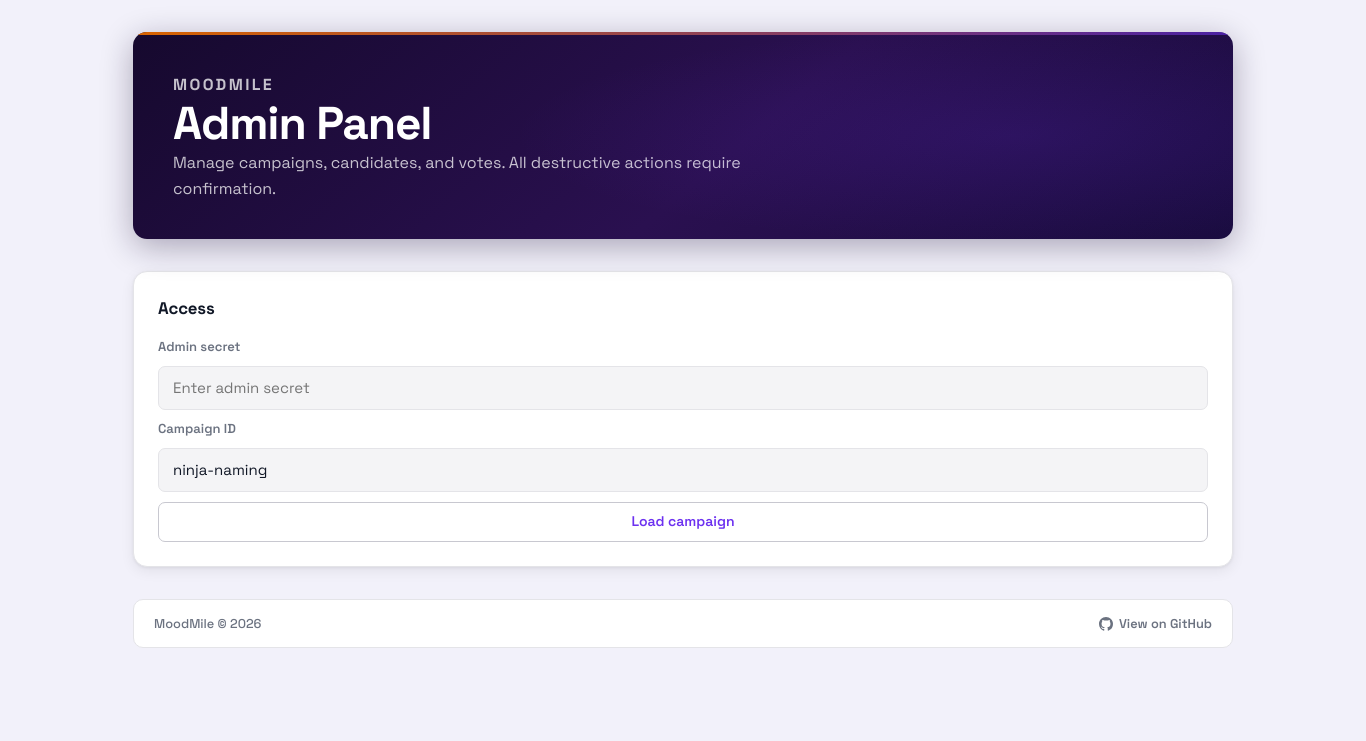
Test case: AdminPage document title › includes the loaded campaign title after authentication
Type "secret" into the password field labelled "Admin secret" at (683, 388), box [158,366,1208,410]
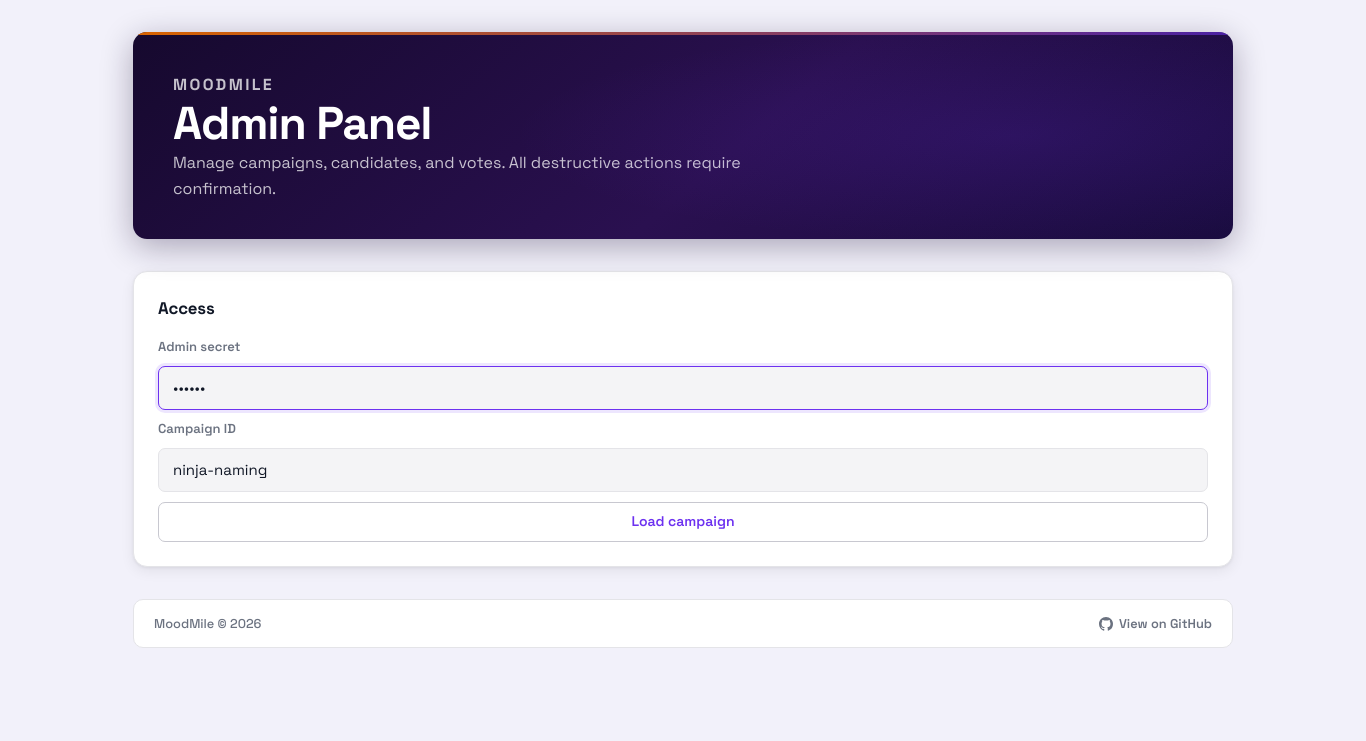
Click the button "Load campaign" at (683, 522), box [158,502,1208,542]
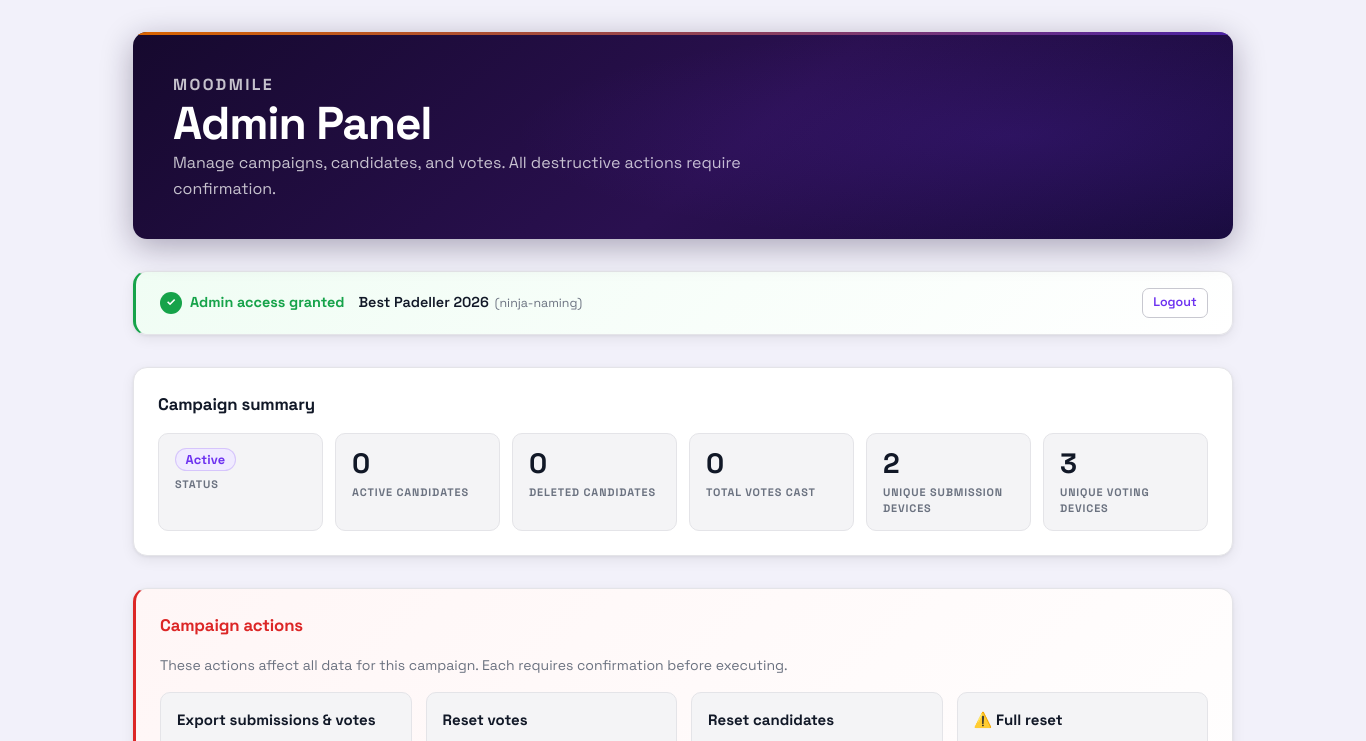
Result: the text "Admin access granted" is shown at [190,292,344,314]
Result: the text "Unique submission devices" is shown at [883,484,1014,516]
Result: the text "Unique voting devices" is shown at [1060,485,1150,515]
